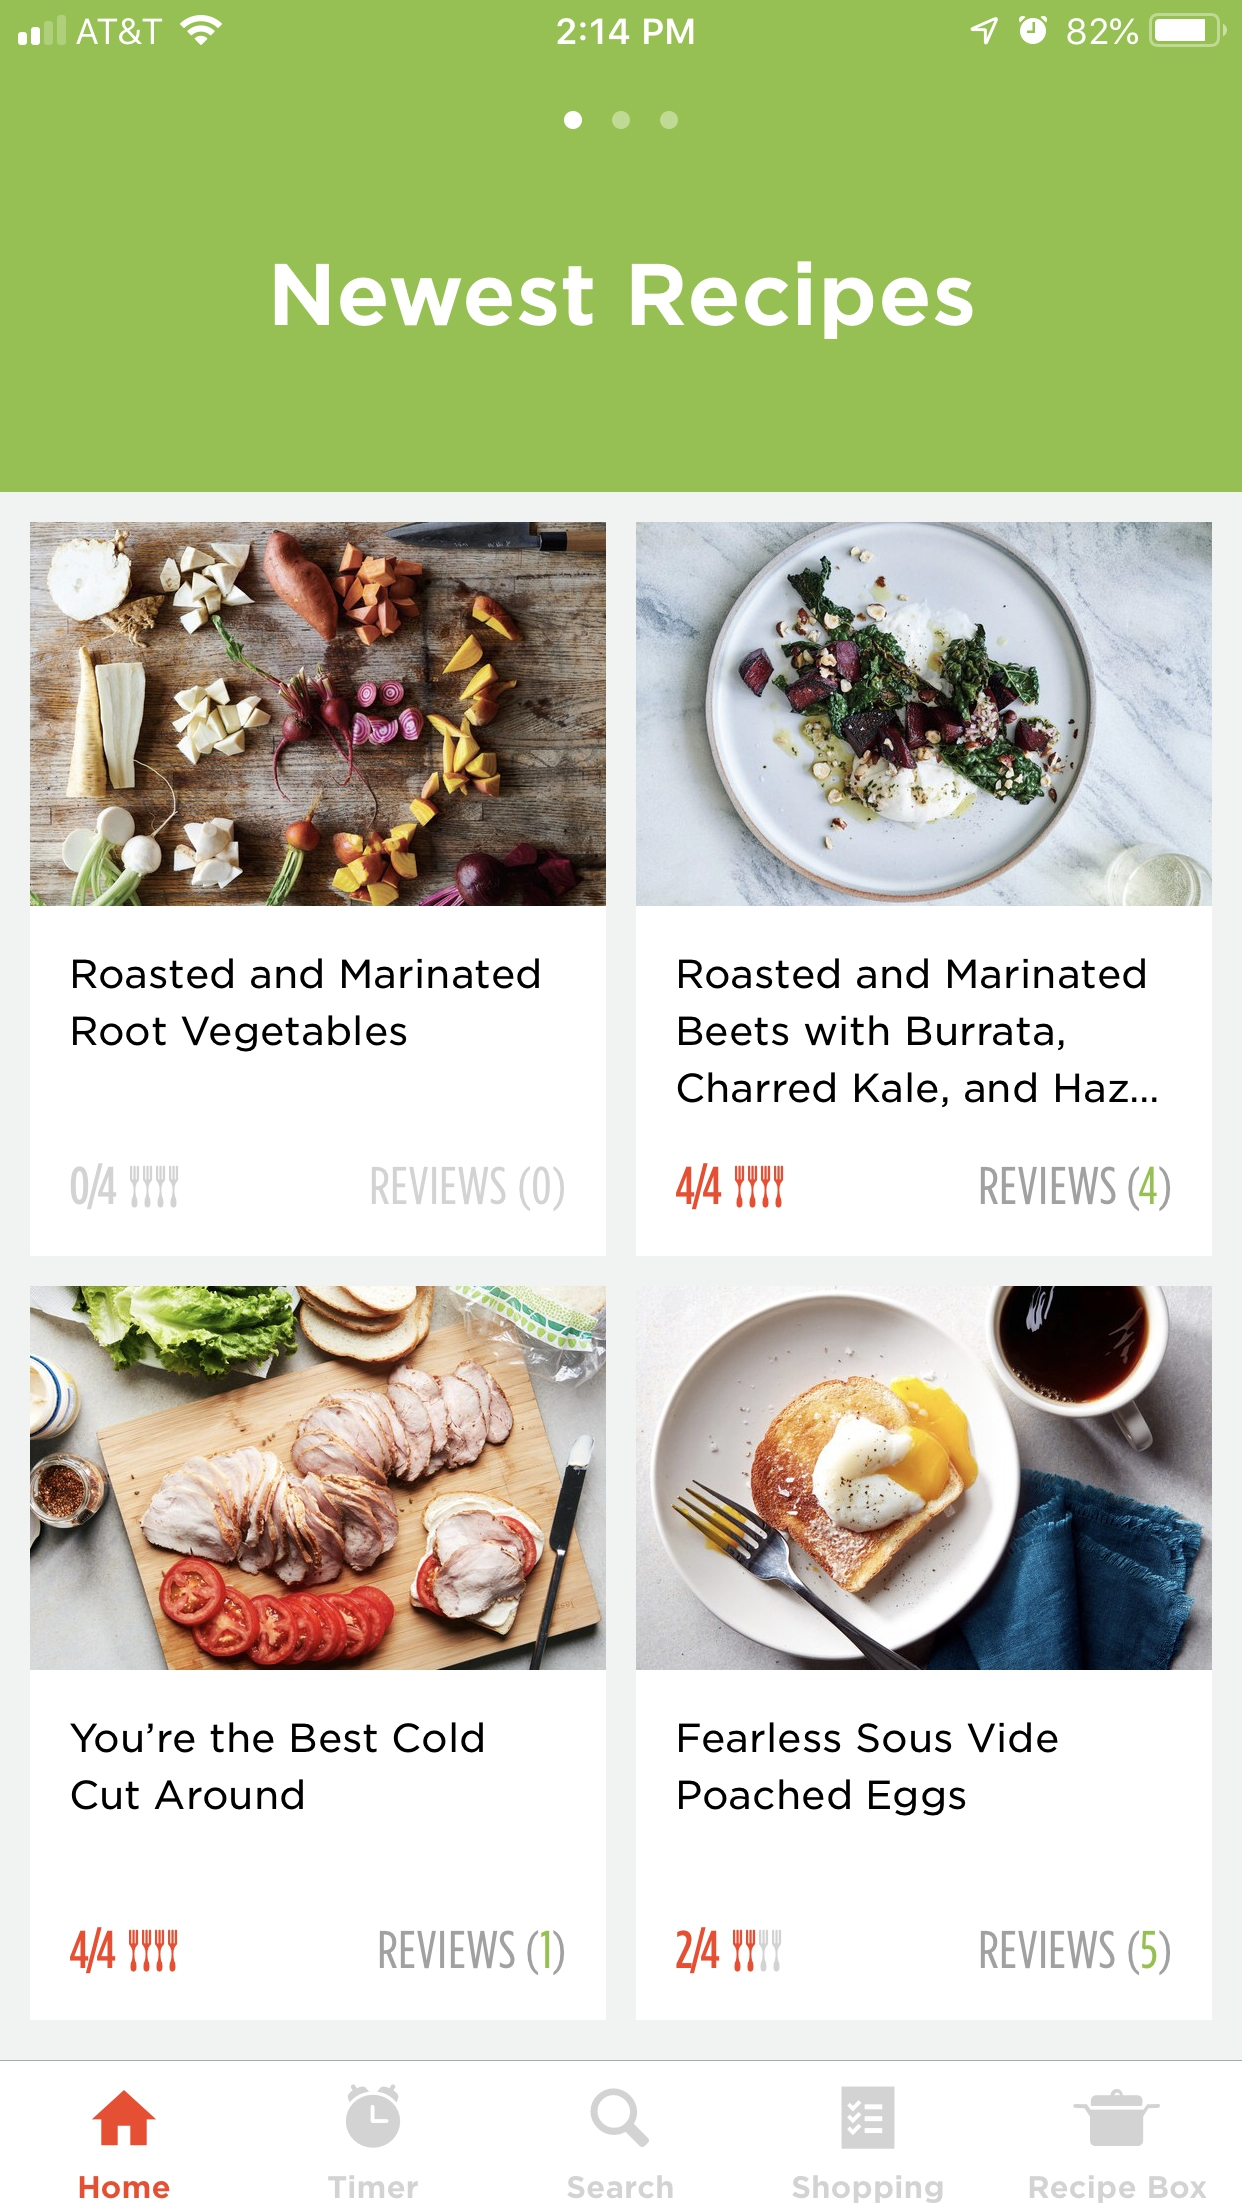Icon: (93, 2090, 158, 2147), (346, 2084, 402, 2149), (590, 2088, 651, 2147), (842, 2085, 895, 2149)
Image: (30, 522, 607, 907), (635, 1284, 1212, 1670), (635, 523, 1212, 907), (30, 1286, 607, 1670), (1074, 2088, 1162, 2147), (129, 1165, 180, 1210), (734, 1165, 786, 1209), (129, 1929, 179, 1973), (732, 1927, 783, 1971)
PageIndicator: (564, 111, 679, 130)
Text: (678, 958, 1159, 1109), (274, 261, 974, 341), (73, 958, 541, 1052), (70, 1721, 484, 1811), (678, 1723, 1059, 1817), (372, 1166, 566, 1213), (980, 1929, 1171, 1976), (379, 1929, 566, 1976), (980, 1166, 1171, 1212), (1030, 2175, 1207, 2203), (793, 2175, 943, 2203), (567, 2175, 673, 2199), (675, 1162, 722, 1210), (71, 1163, 118, 1212), (70, 1926, 117, 1974), (80, 2175, 171, 2199), (328, 2175, 419, 2199), (676, 1926, 720, 1974)
UpperTaskBar: (2, 2, 1242, 49)
